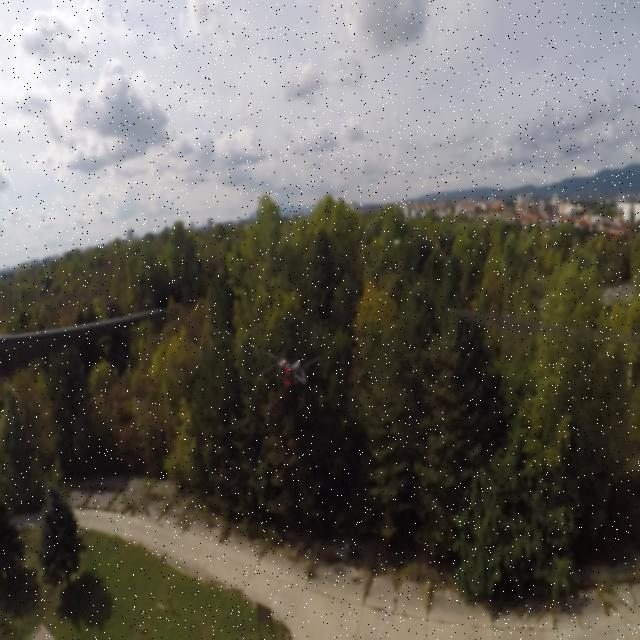UAV: (259, 350, 323, 412)
